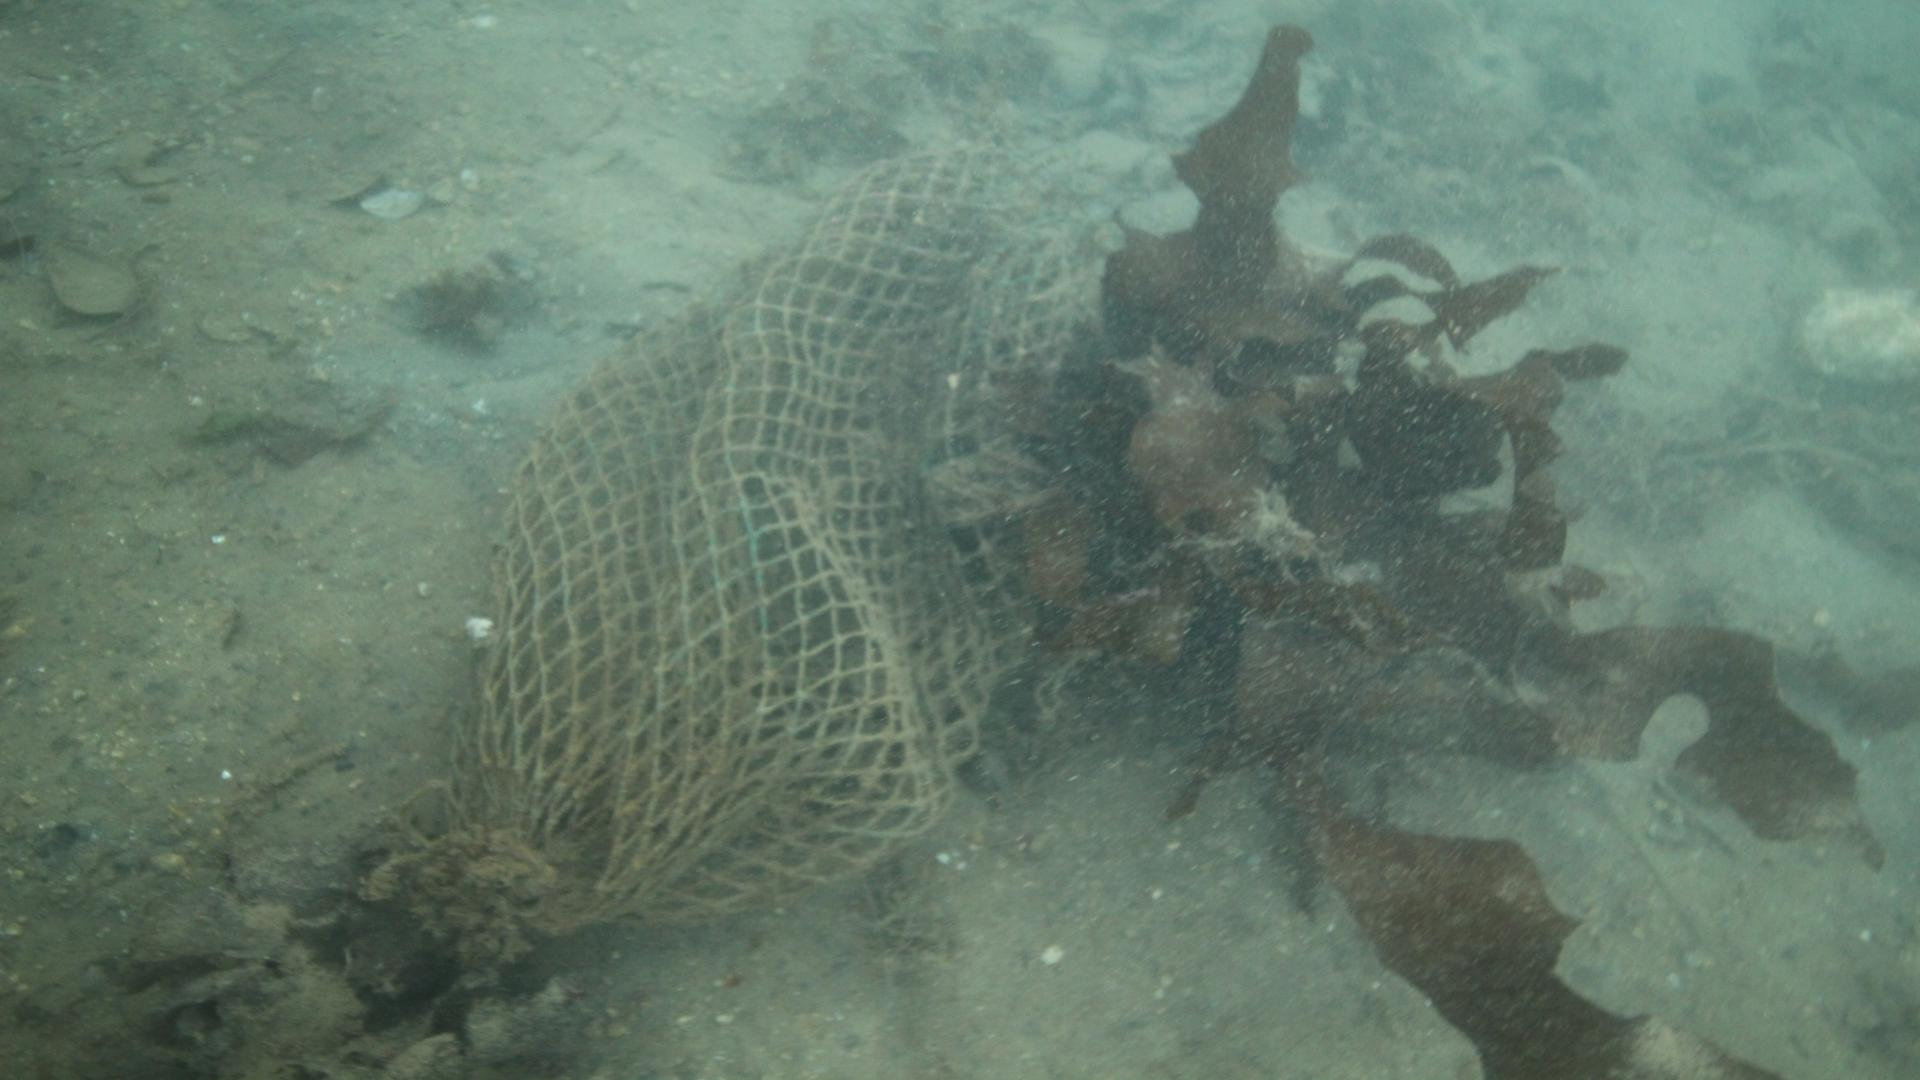fish net: (443, 142, 1076, 927)
